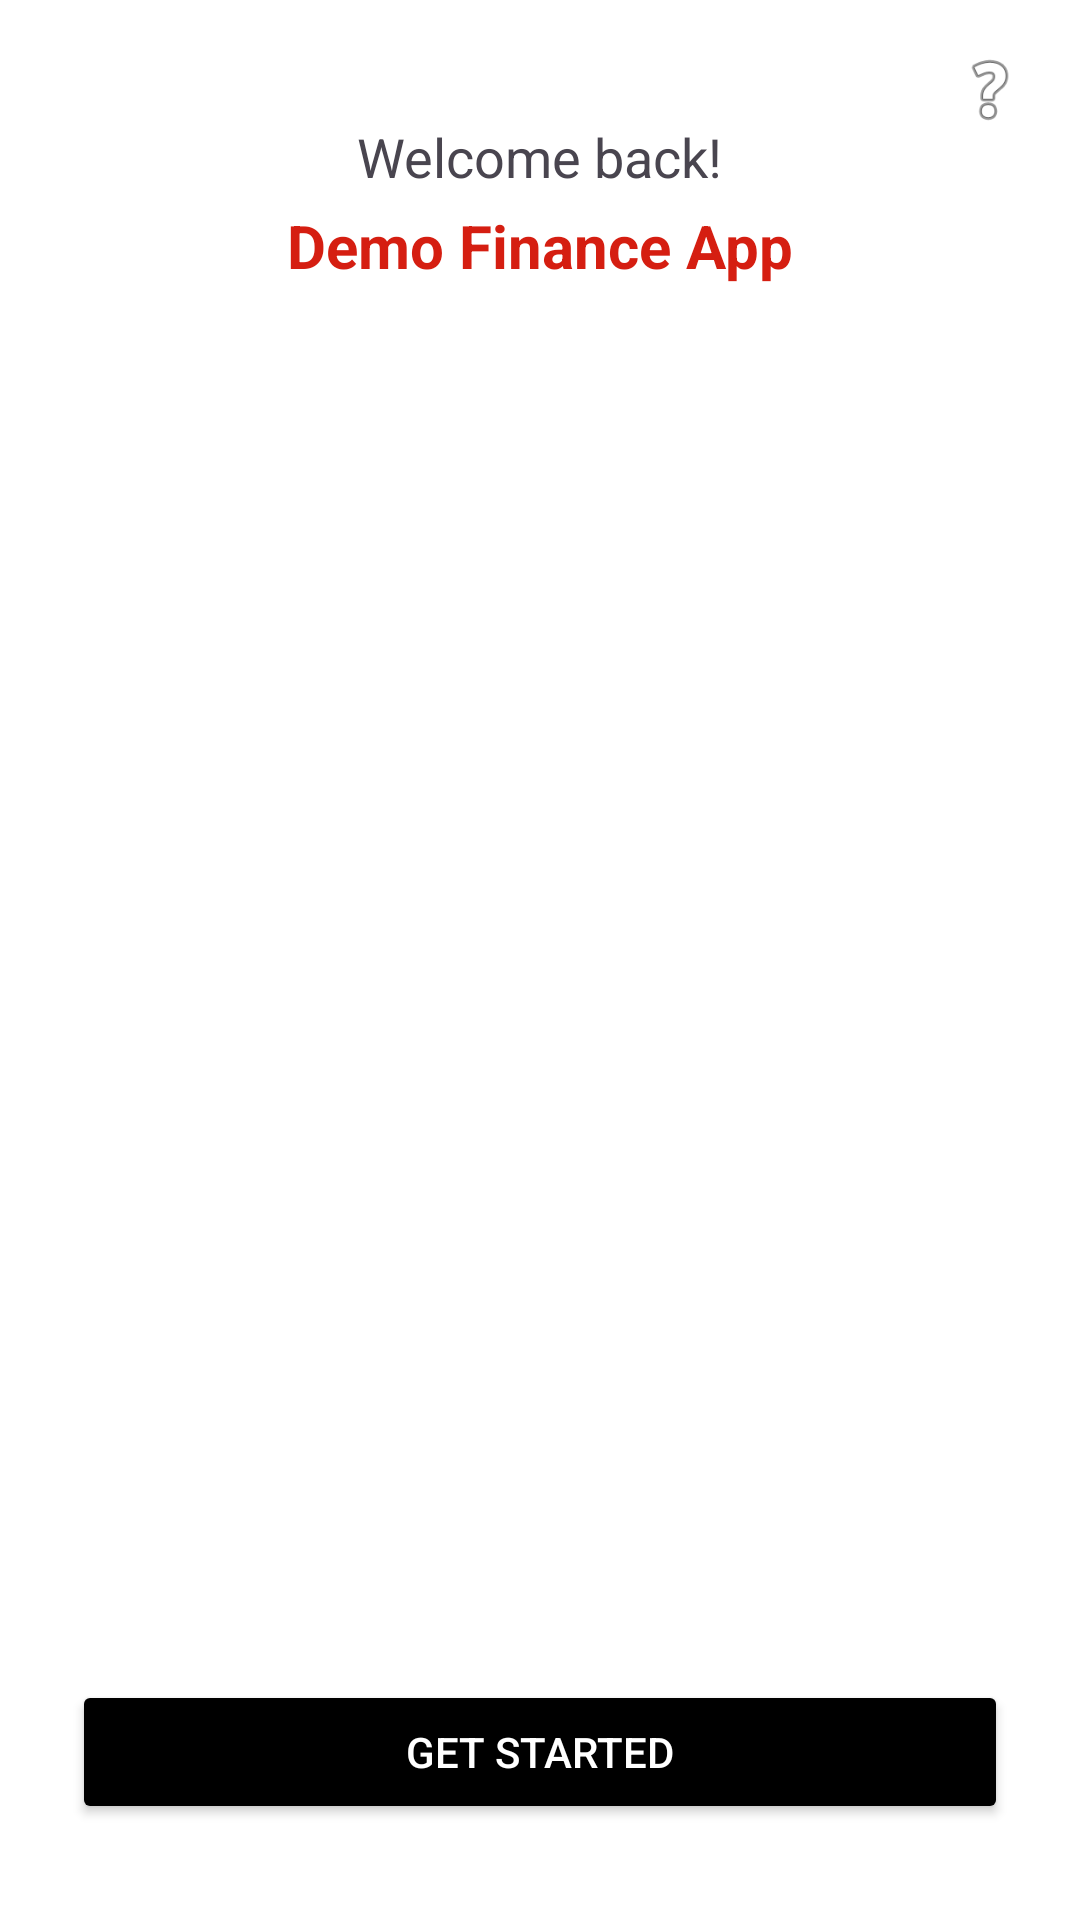

Icons on this 1080px x 1920px Android screen, each with its box as (x1, y1, x2, y2):
help: (972, 60, 1009, 120)
